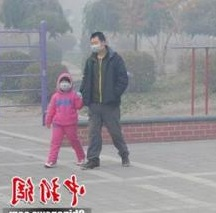person: (78, 31, 133, 169), (43, 71, 88, 168)
